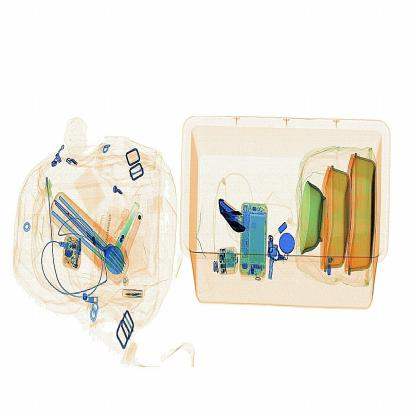pliers: (213, 196, 249, 245)
